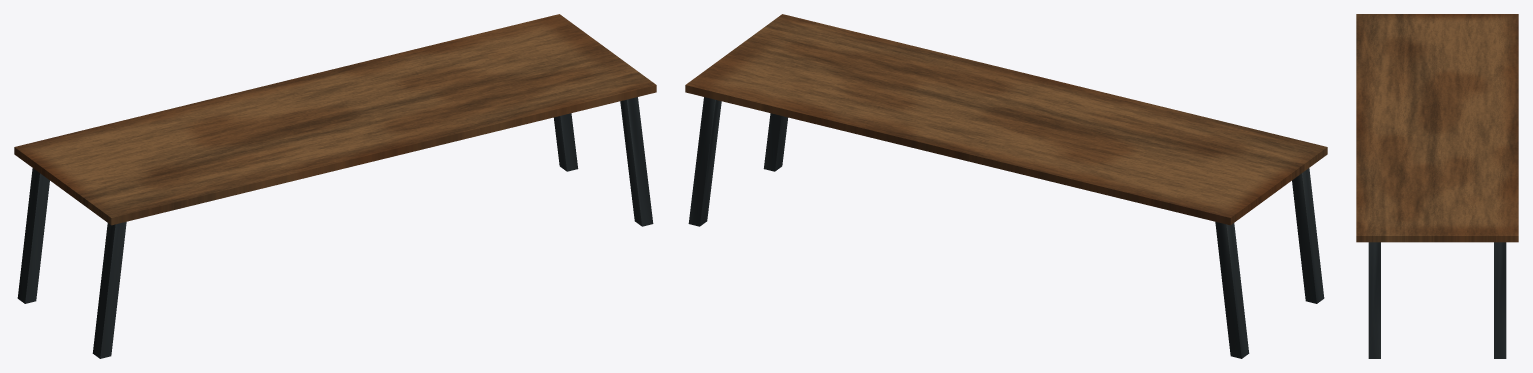
The model's file is BgMD_desk_pattern2.fbx.
The picture shows the model from 3 angles, left to right: view 1: azimuth 30°, elevation 25°; view 2: azimuth 150°, elevation 25°; view 3: azimuth 270°, elevation 25°; orthographic projection. The views are drawn at different scales.
Visible parts, largest first — view 1: BgMD_desk_pattern2; view 2: BgMD_desk_pattern2; view 3: BgMD_desk_pattern2.
Boxes of the visible parts, bbox=[...] form: BgMD_desk_pattern2: bbox=[14, 14, 656, 358]; BgMD_desk_pattern2: bbox=[685, 14, 1327, 358]; BgMD_desk_pattern2: bbox=[1356, 14, 1518, 358].
Size of the model in its own units: 304 by 76.38 by 92.48.
